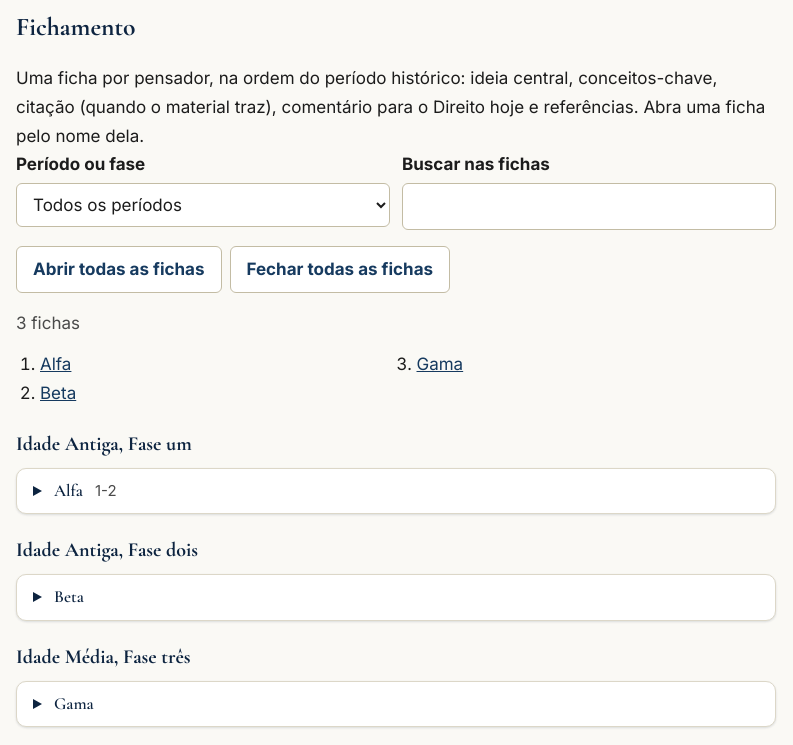
Test: FichamentoVisor: filtro › filtra por fase
Select "Fase três" in the dropdown with class "fichamento__periodo" at (203, 205), box x1=16 y1=183 x2=390 y2=227
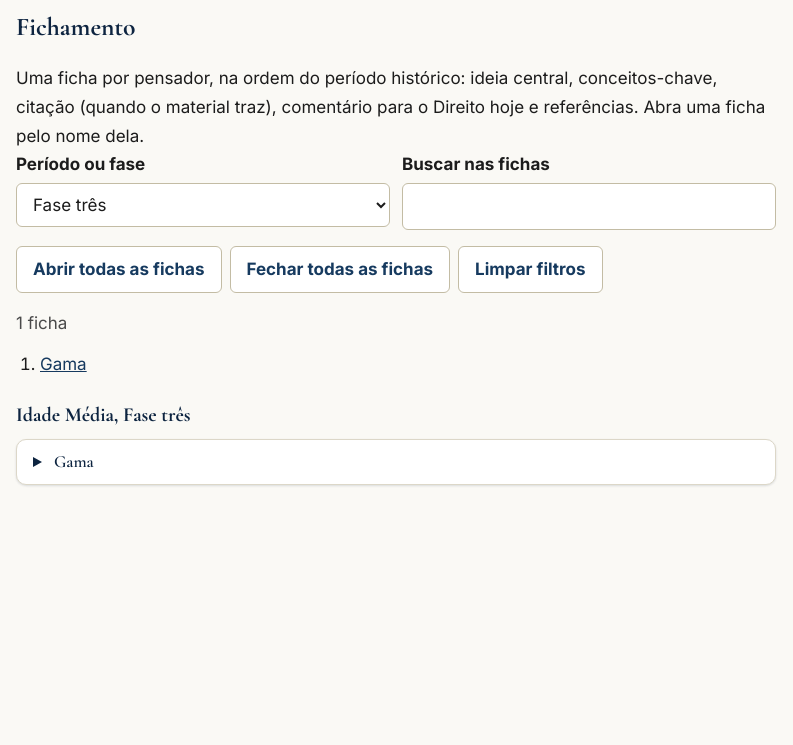
expect the message "1 ficha" is shown: met, box x1=16 y1=313 x2=67 y2=333
